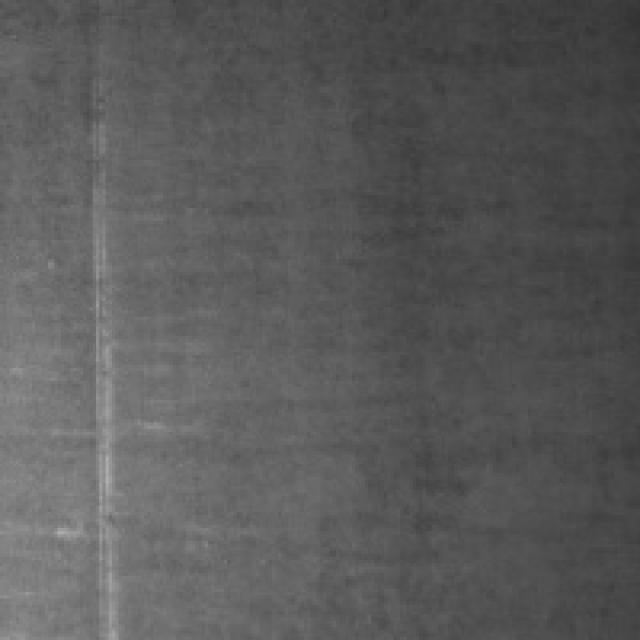scratches: (90, 106, 131, 634)
